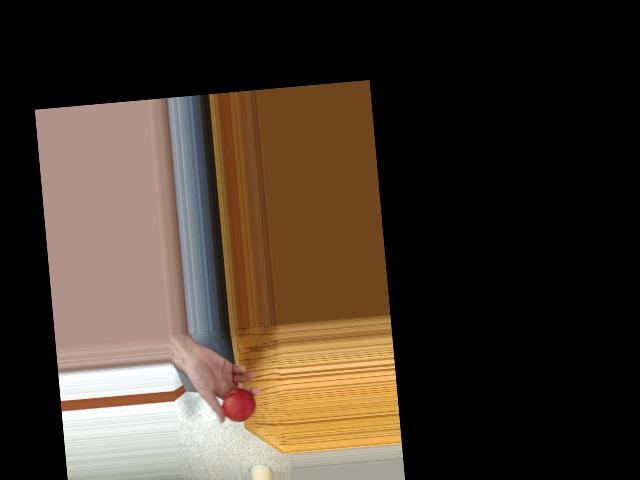apple: (216, 386, 257, 426)
